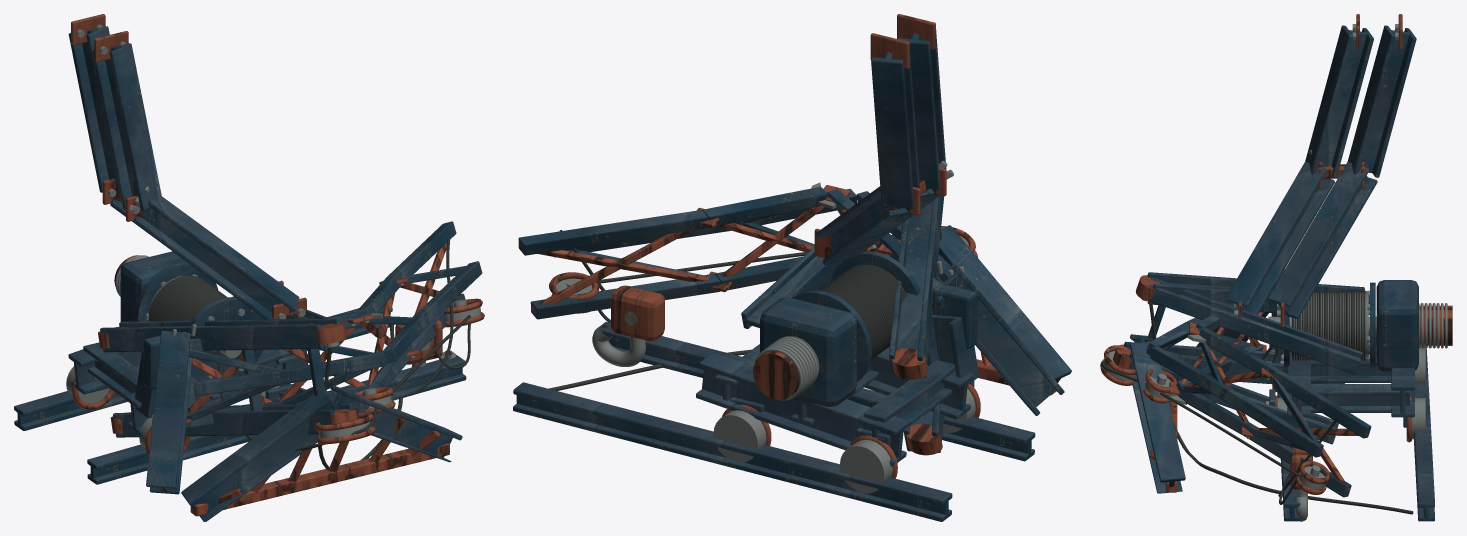
File: abyssal-collapsed-crane.glb
3 renders of one model, left to right at view 1: azimuth 30°, elevation 25°; view 2: azimuth 150°, elevation 25°; view 3: azimuth 270°, elevation 25°, orthographic. The views are drawn at different scales.
Visible parts, largest first — view 1: L03_Crane_Batch_L03_Crane_painted-steel.003, L03_Crane_Batch_L03_Crane_oxide-steel.003, L03_Crane_Batch_L03_Crane_wire-rope.003, L03_Crane_Batch_L03_Crane_exposed-edges.003; view 2: L03_Crane_Batch_L03_Crane_painted-steel.003, L03_Crane_Batch_L03_Crane_oxide-steel.003, L03_Crane_Batch_L03_Crane_exposed-edges.003, L03_Crane_Batch_L03_Crane_wire-rope.003; view 3: L03_Crane_Batch_L03_Crane_painted-steel.003, L03_Crane_Batch_L03_Crane_oxide-steel.003, L03_Crane_Batch_L03_Crane_exposed-edges.003, L03_Crane_Batch_L03_Crane_wire-rope.003.
Part boxes in pixels (left/top/right/bottom): L03_Crane_Batch_L03_Crane_painted-steel.003: left=14, top=26, right=482, bottom=521; L03_Crane_Batch_L03_Crane_oxide-steel.003: left=71, top=14, right=484, bottom=516; L03_Crane_Batch_L03_Crane_wire-rope.003: left=148, top=239, right=471, bottom=469; L03_Crane_Batch_L03_Crane_exposed-edges.003: left=66, top=24, right=481, bottom=447; L03_Crane_Batch_L03_Crane_painted-steel.003: left=513, top=30, right=1071, bottom=521; L03_Crane_Batch_L03_Crane_oxide-steel.003: left=519, top=14, right=1056, bottom=478; L03_Crane_Batch_L03_Crane_exposed-edges.003: left=556, top=160, right=975, bottom=493; L03_Crane_Batch_L03_Crane_wire-rope.003: left=548, top=230, right=906, bottom=390; L03_Crane_Batch_L03_Crane_painted-steel.003: left=1124, top=25, right=1434, bottom=521; L03_Crane_Batch_L03_Crane_oxide-steel.003: left=1100, top=14, right=1452, bottom=494; L03_Crane_Batch_L03_Crane_exposed-edges.003: left=1104, top=24, right=1447, bottom=521; L03_Crane_Batch_L03_Crane_wire-rope.003: left=1101, top=290, right=1413, bottom=514.
Bounding box in the file's own units: 9.16 × 8.63 × 7.46.
Materials: 5 (2 with a texture image).
